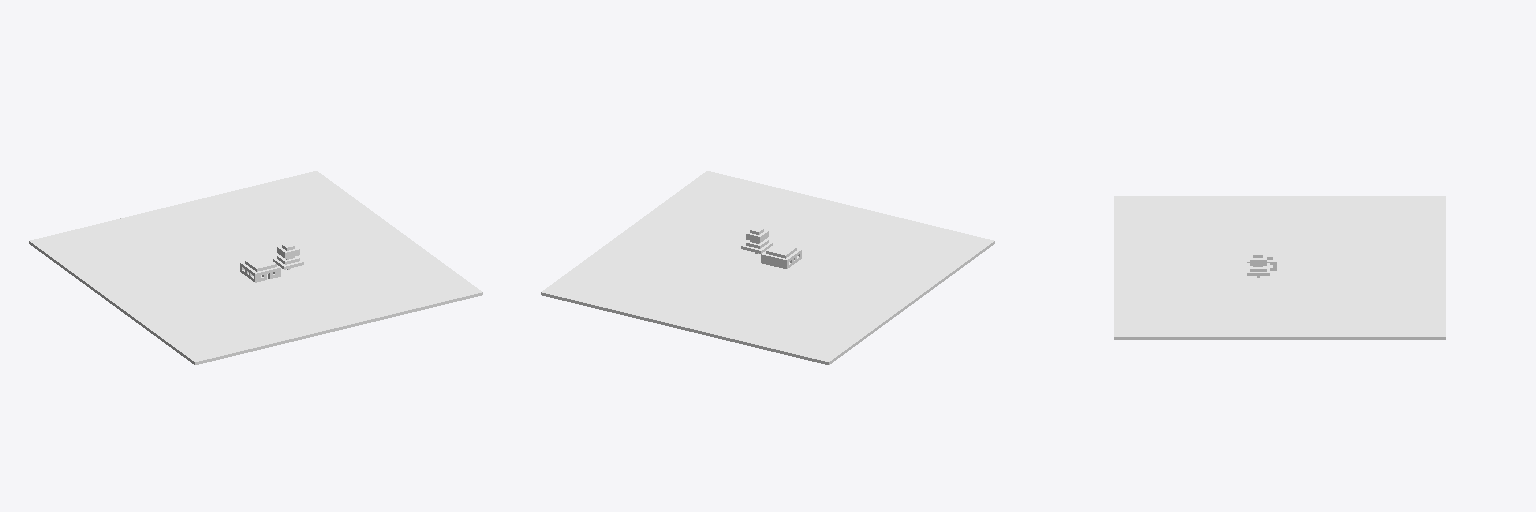
The model's file is temp_house_playground.obj.
3 views of the same model, side by side, from view 1: azimuth 30°, elevation 25°; view 2: azimuth 150°, elevation 25°; view 3: azimuth 270°, elevation 25° (orthographic).
Visible parts, largest first — view 1: object 1; view 2: object 1; view 3: object 1.
Boxes of the visible parts, <box> form: object 1: <box>29,171,482,364</box>; object 1: <box>541,171,994,364</box>; object 1: <box>1114,196,1445,339</box>.
Size of the model in its own units: 10 by 0.9 by 10.